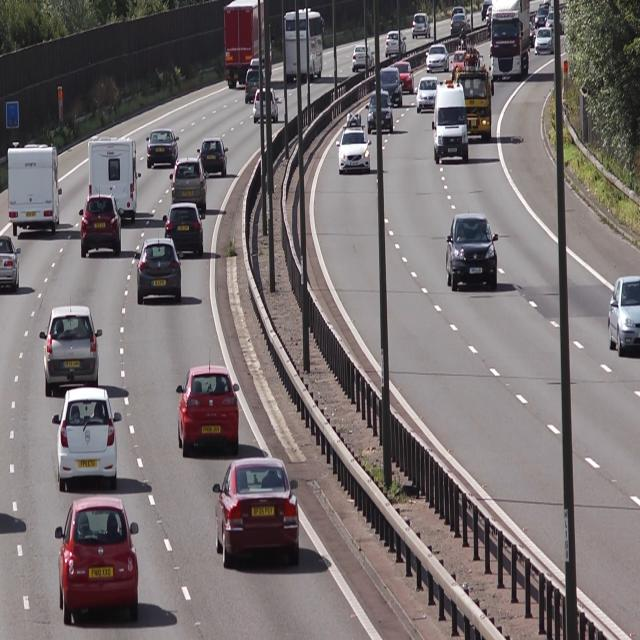Car: (51, 499, 138, 620), (214, 456, 302, 573), (50, 384, 118, 493), (178, 364, 240, 454), (40, 305, 104, 392), (6, 139, 62, 234), (89, 134, 142, 218), (446, 208, 499, 290), (224, 1, 274, 85), (282, 7, 326, 86), (493, 0, 533, 80), (134, 239, 182, 305), (457, 52, 492, 140), (78, 194, 124, 260), (434, 81, 470, 160), (169, 156, 208, 218), (160, 203, 207, 254), (336, 114, 372, 174), (197, 138, 231, 178), (146, 128, 180, 165), (368, 91, 396, 135), (379, 67, 403, 112), (254, 88, 280, 126), (243, 57, 264, 104), (424, 43, 449, 75), (419, 76, 439, 113), (350, 45, 376, 73), (396, 58, 414, 95), (535, 26, 556, 57)
